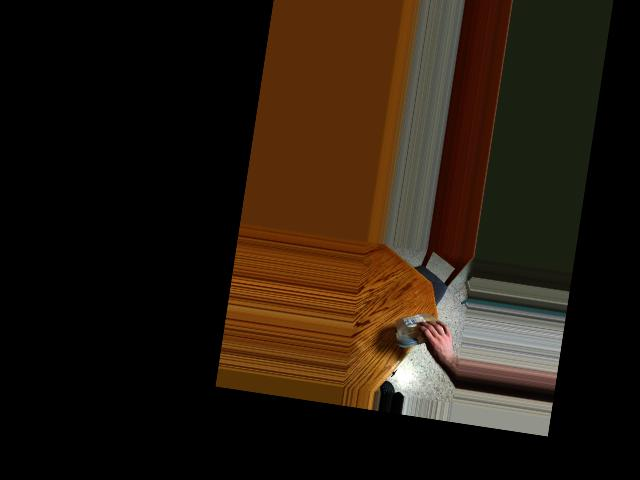cheese: (398, 312, 438, 347)
